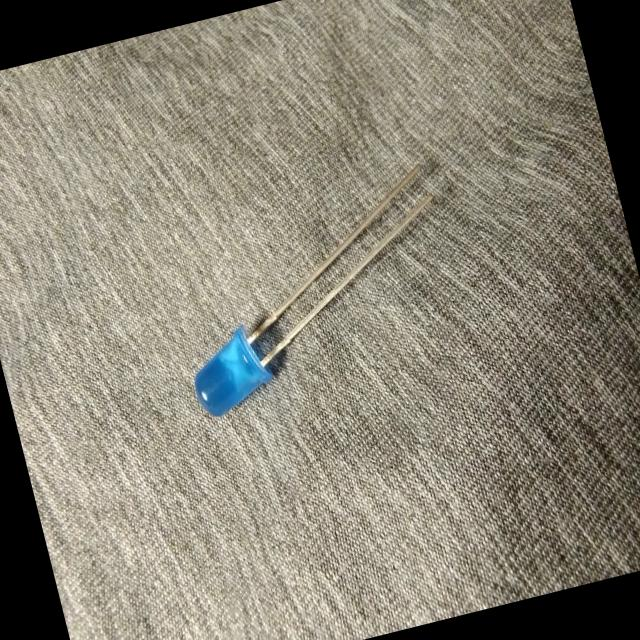blue_led: (153, 159, 473, 422)
